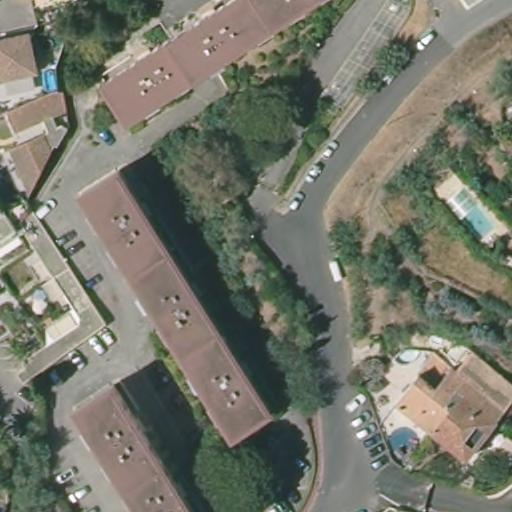pool: (443, 188, 495, 242), (388, 422, 420, 461), (36, 67, 60, 93)
